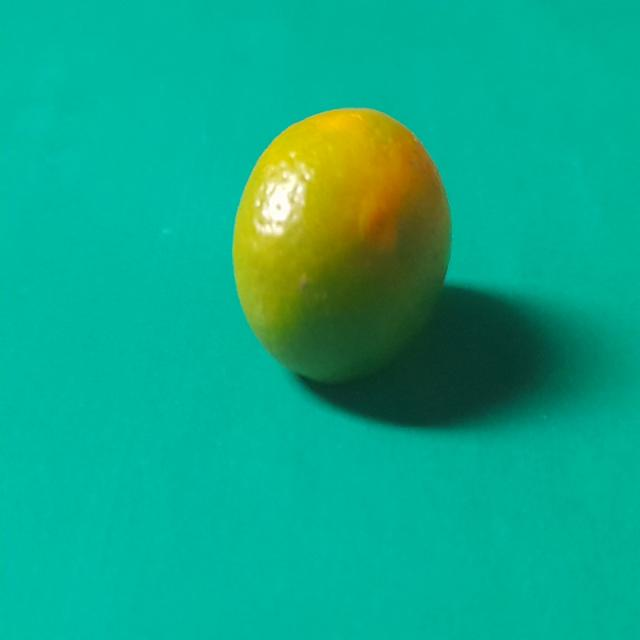greening: (232, 98, 458, 387)
